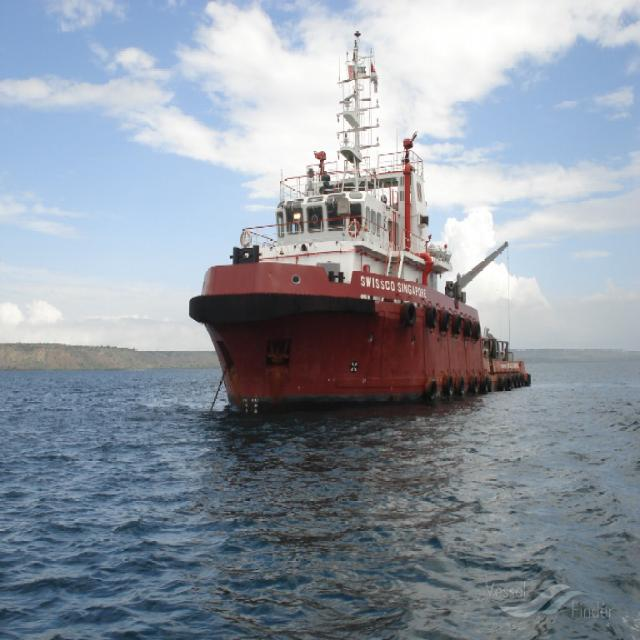OCR: (360, 270, 430, 306)
